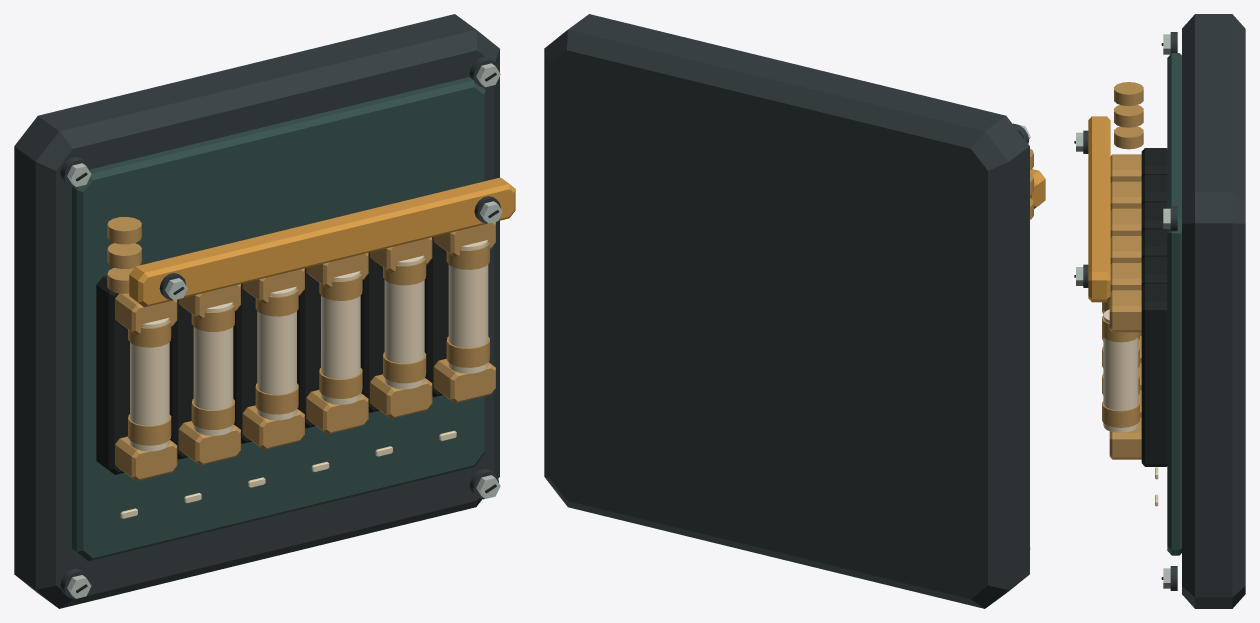
Rendered from fuse-working.glb.
The picture shows the model from 3 angles, left to right: view 1: azimuth 30°, elevation 25°; view 2: azimuth 150°, elevation 25°; view 3: azimuth 270°, elevation 25°; orthographic projection. The views are drawn at different scales.
Parts seen in each view (by area): view 1: RB_fuse_working; view 2: RB_fuse_working; view 3: RB_fuse_working.
Part boxes in pixels (<box>): RB_fuse_working: <box>14,14,515,608</box>; RB_fuse_working: <box>544,14,1045,608</box>; RB_fuse_working: <box>1074,14,1245,608</box>.
Bounding box in the file's own units: 0.59 × 0.58 × 0.2155.
